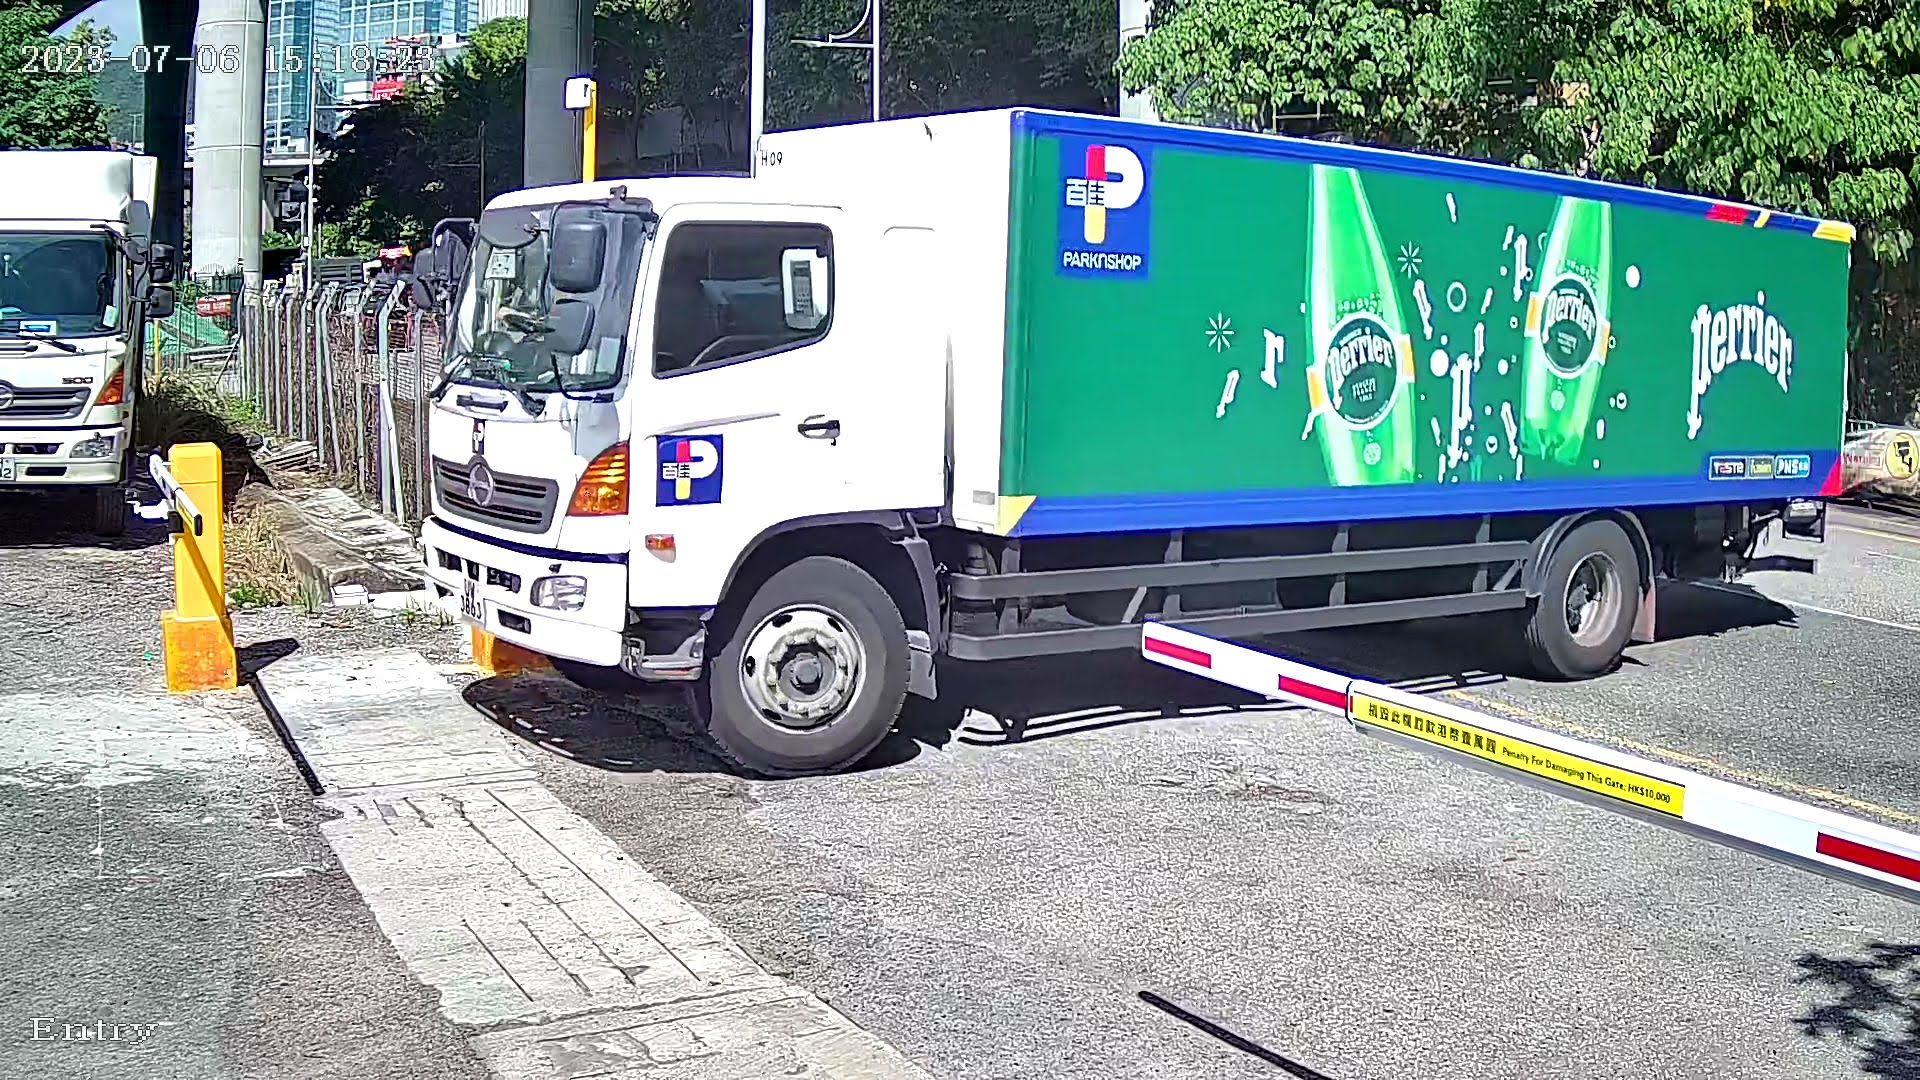truck: (355, 73, 1898, 793)
